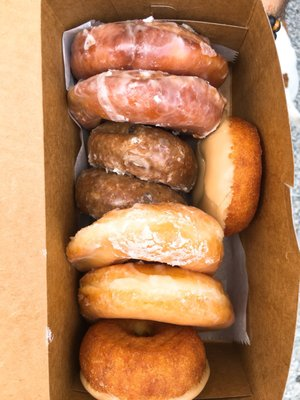salad: (66, 202, 224, 275), (68, 70, 228, 139), (77, 260, 234, 330), (70, 17, 229, 85), (78, 319, 209, 400), (196, 116, 263, 239), (86, 121, 197, 191), (75, 166, 193, 219)
